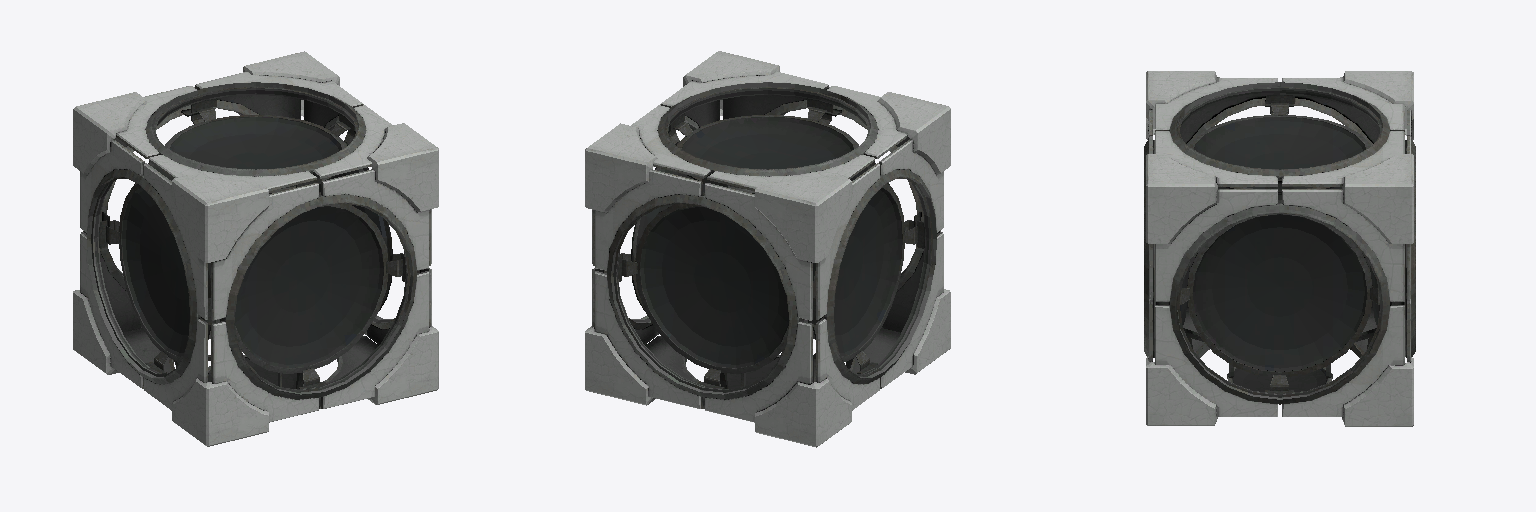
The picture shows the model from 3 angles: view 1: azimuth 30°, elevation 25°; view 2: azimuth 150°, elevation 25°; view 3: azimuth 270°, elevation 25°; orthographic projection.
Parts seen in each view (by area): view 1: g0; view 2: g0; view 3: g0.
Boxes of the visible parts, <box> form: g0: <box>73,51,438,446</box>; g0: <box>585,51,950,447</box>; g0: <box>1144,71,1415,426</box>.
Size of the model in its own units: 36.34 by 38.43 by 36.34.
Materials: 1 (1 with a texture image).